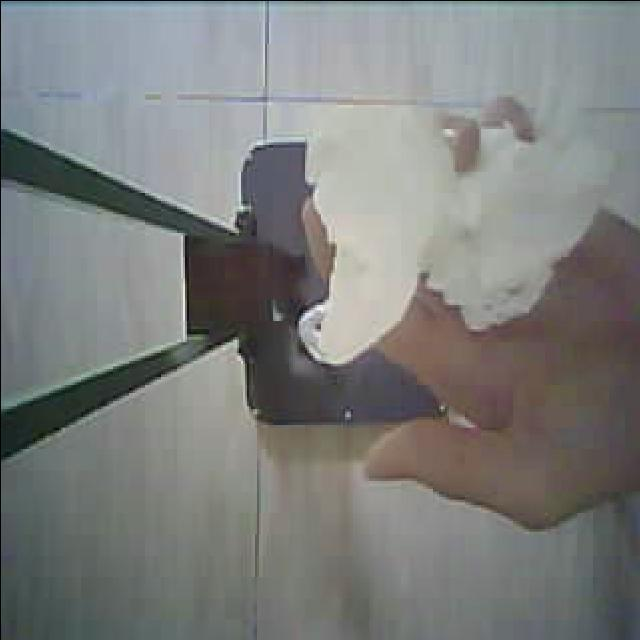Paper: (300, 104, 612, 357)
